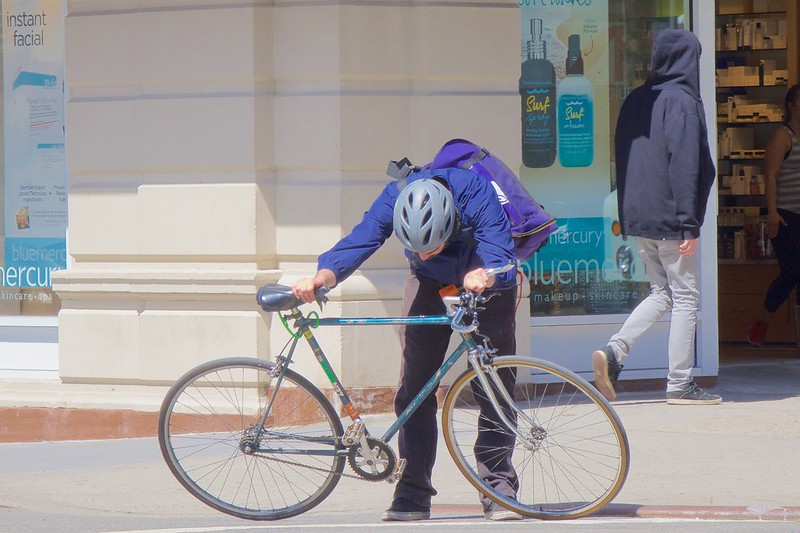helmet: (391, 176, 459, 270)
